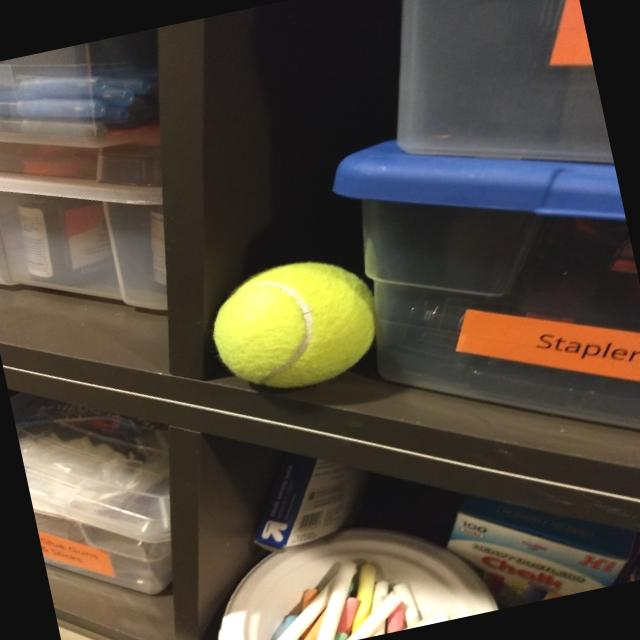tennis-ball: (201, 245, 391, 404)
